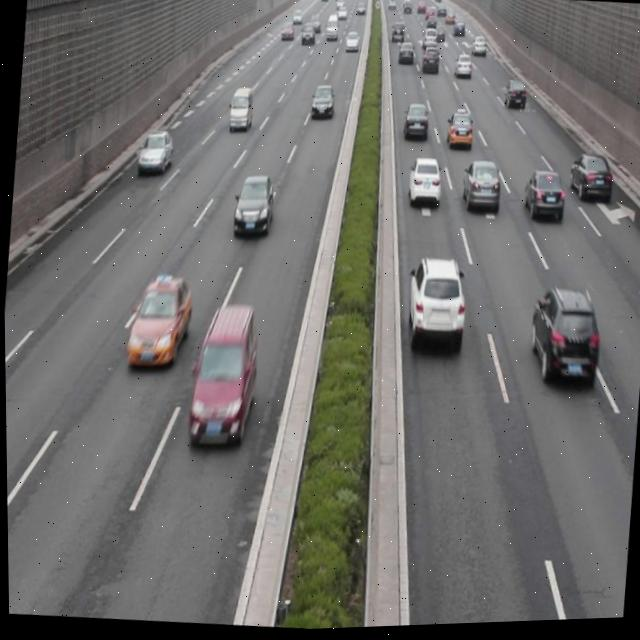car: (525, 286, 602, 391), (124, 275, 193, 369), (402, 256, 467, 352), (228, 171, 274, 241), (565, 154, 614, 211), (519, 167, 565, 225), (458, 159, 500, 214), (404, 156, 442, 210), (136, 129, 174, 175), (442, 110, 473, 155), (400, 101, 429, 145), (308, 82, 334, 122), (502, 77, 527, 117)
truck: (185, 300, 262, 447), (226, 87, 254, 134)
